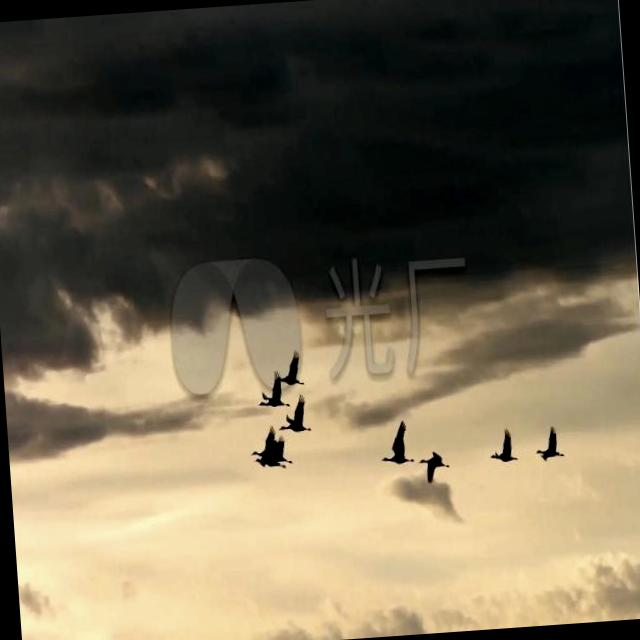bird: (240, 425, 292, 471), (378, 418, 418, 472), (528, 422, 568, 464), (484, 429, 522, 469), (278, 344, 311, 388), (418, 444, 454, 484), (279, 396, 312, 436), (255, 370, 286, 411), (252, 454, 292, 474)
